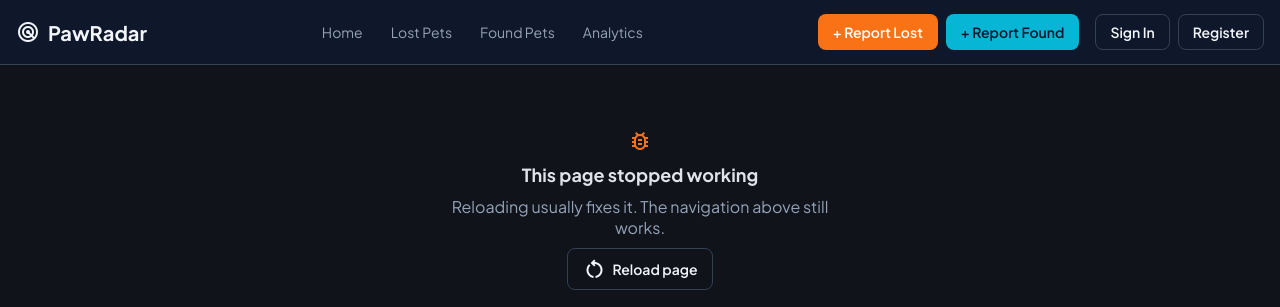
ErrorBoundary in Layout › keeps the navigation working, and clears the crash on the next page
The width and height of the screenshot is (1280, 307).
Expected: the message is shown, [452,127,828,290]
Click the link to "/" at (342, 32), box [322,23,363,41]
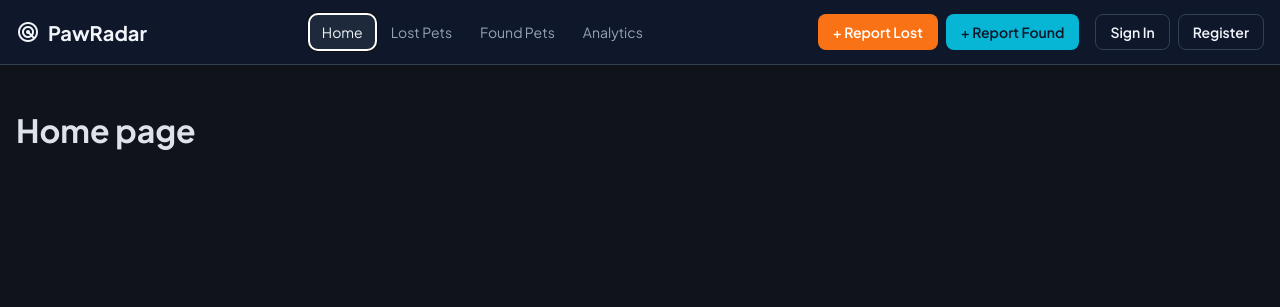
Expected: the heading "Home page" is shown, [16,110,196,150]
Expected: the heading "This page stopped working" is gone
